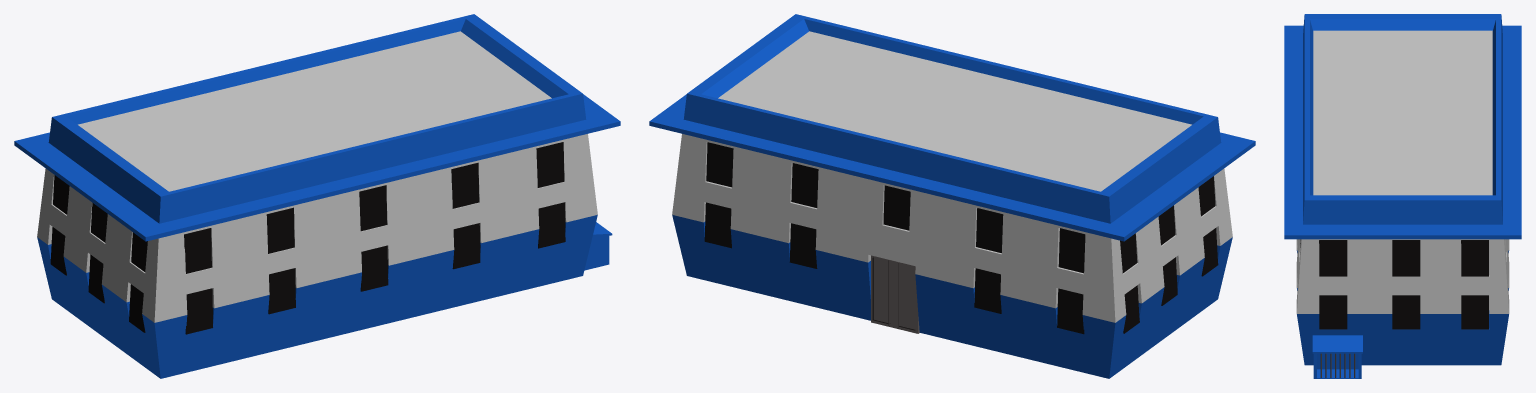
The picture shows the model from 3 angles, left to right: view 1: azimuth 30°, elevation 25°; view 2: azimuth 150°, elevation 25°; view 3: azimuth 270°, elevation 25°; orthographic projection. The views are drawn at different scales.
Visible parts, largest first — view 1: Cube003; view 2: Cube003; view 3: Cube003.
Boxes of the visible parts, x1,y1,x2,y2 form: Cube003: (14, 14, 620, 378); Cube003: (649, 14, 1255, 378); Cube003: (1284, 14, 1521, 378).
Size of the model in its own units: 13.24 by 4.79 by 6.25.
